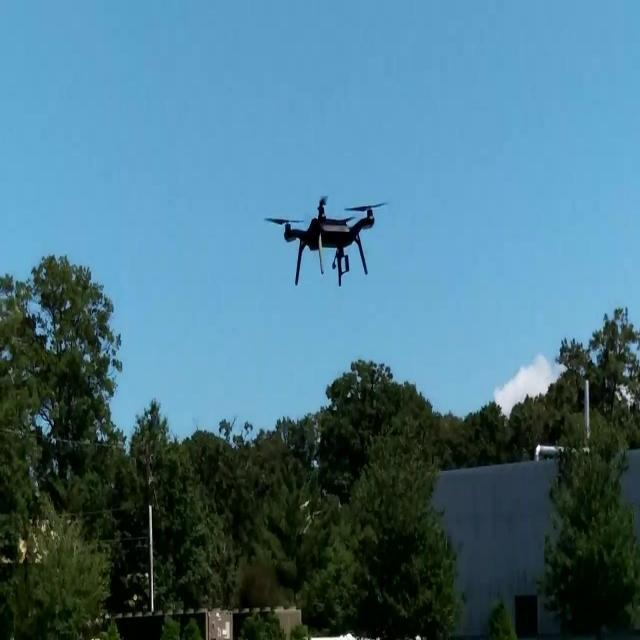UAV: (262, 195, 388, 287)
